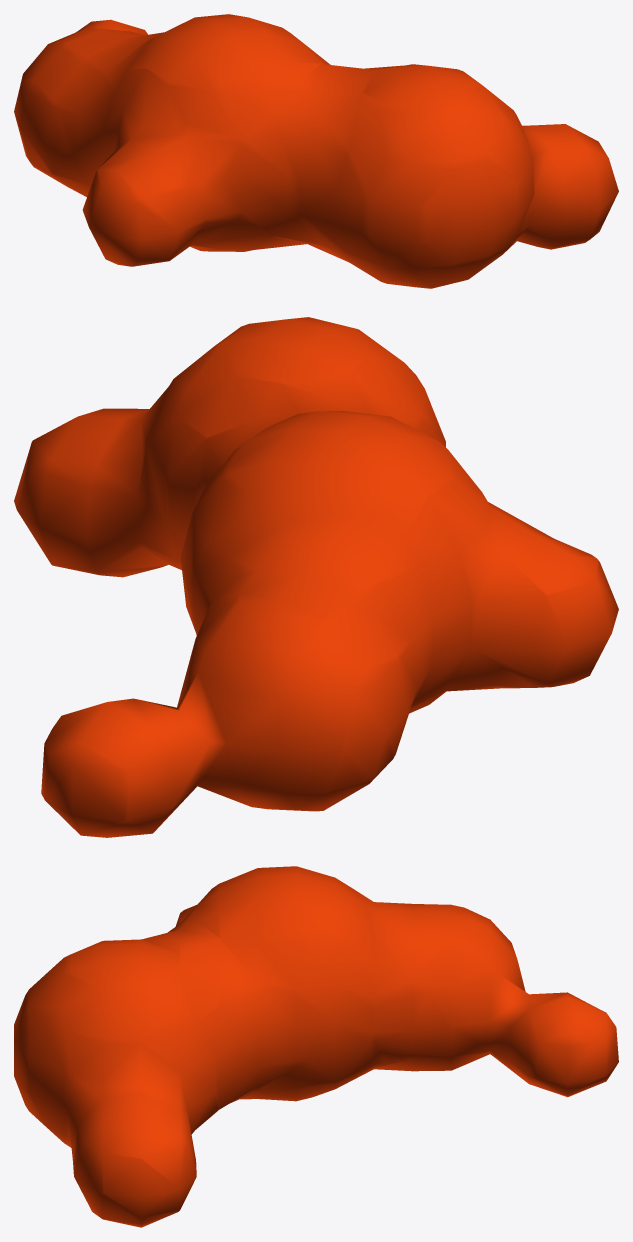
The model's file is bush3.fbx.
3 views of the same model, one above another, from view 1: azimuth 30°, elevation 25°; view 2: azimuth 150°, elevation 25°; view 3: azimuth 270°, elevation 25° (orthographic). The views are drawn at different scales.
Parts seen in each view (by area): view 1: Mball; view 2: Mball; view 3: Mball.
Boxes of the visible parts, <box> form: Mball: <box>14,14,618,288</box>; Mball: <box>14,317,618,837</box>; Mball: <box>14,866,618,1227</box>.
Bounding box in the file's own units: 1011 × 454 × 1123.
